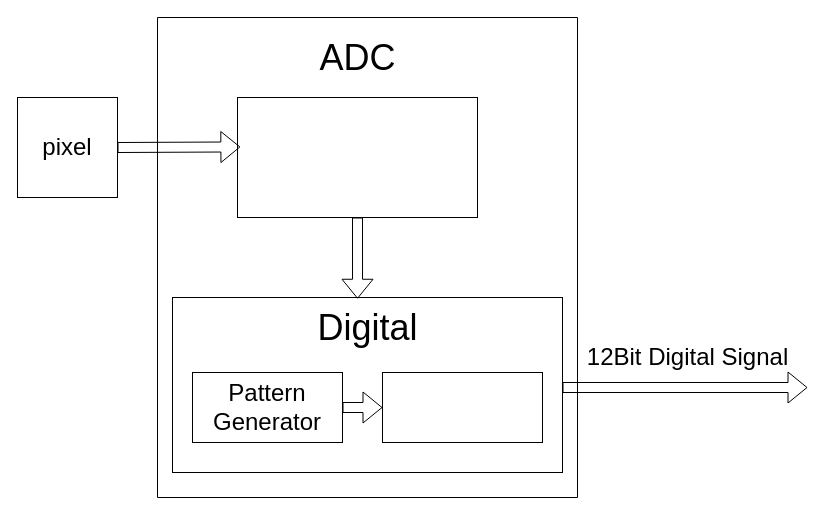
Some shapes in this 825 by 515 pixel diagram are drawn without their labels. The shapes that lost their labels are listed below. From the top down, each one's centre as x and y in pixels, then its label:
At point 357,157: "Analog".
At point 462,407: "Logic".
